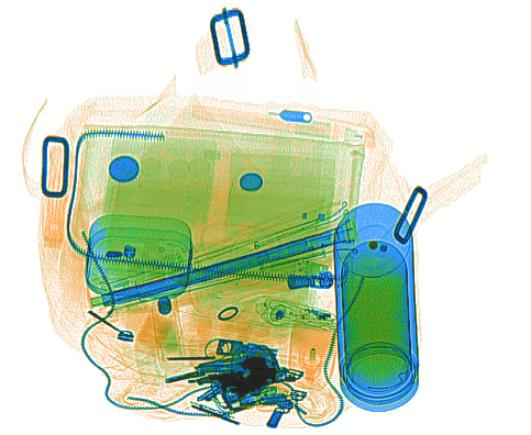USBFlashDisk: (259, 248, 328, 284)
plasticBottleWithaNozzle: (286, 313, 337, 392)
